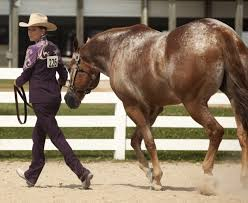Horse: (65, 23, 242, 184)
Person: (12, 10, 95, 191)
